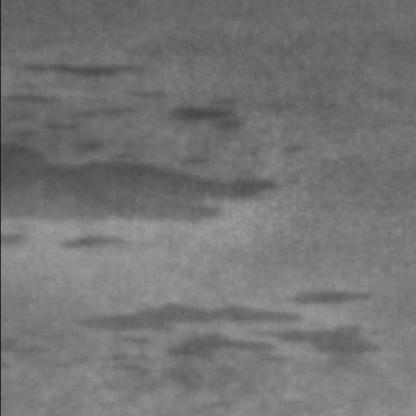inclusion: (2, 125, 289, 260), (62, 289, 392, 395), (2, 62, 171, 156), (166, 93, 254, 142)
